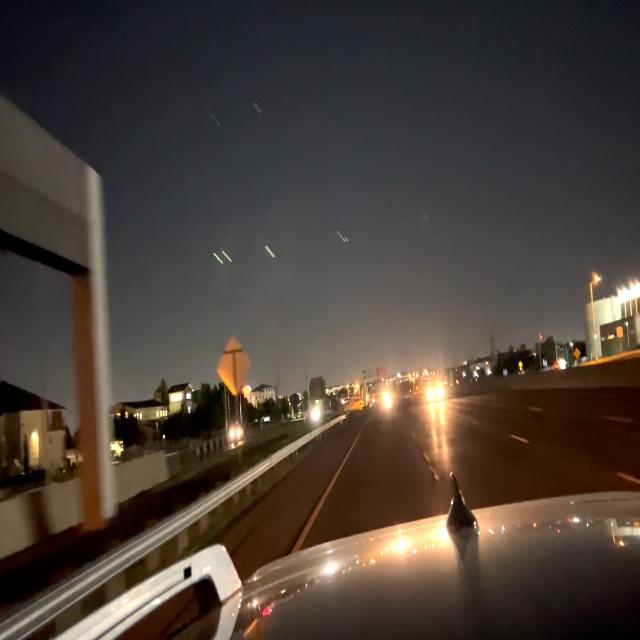back-of-sign: (217, 336, 251, 398)
